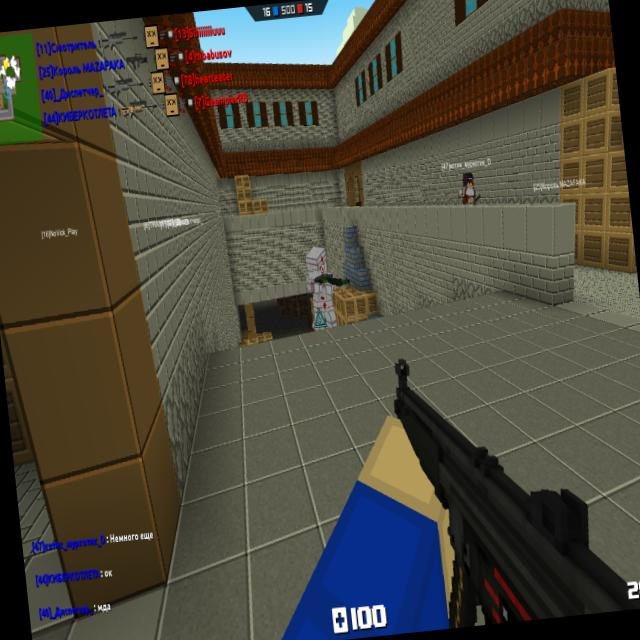enemy: (301, 244, 338, 334)
